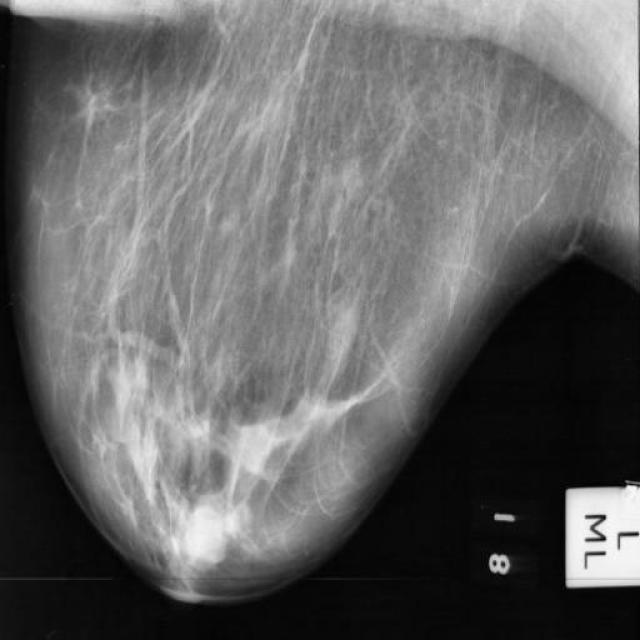cancer: (302, 121, 360, 214)
